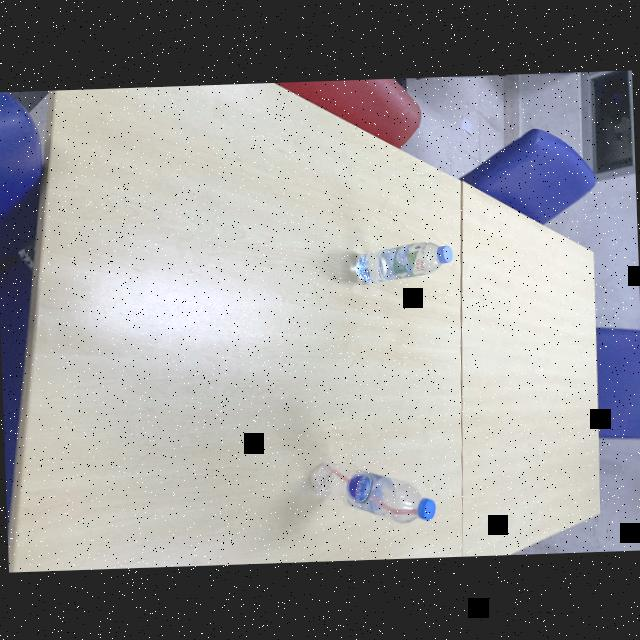plastic_bottle: (305, 456, 437, 526), (349, 238, 456, 286)
